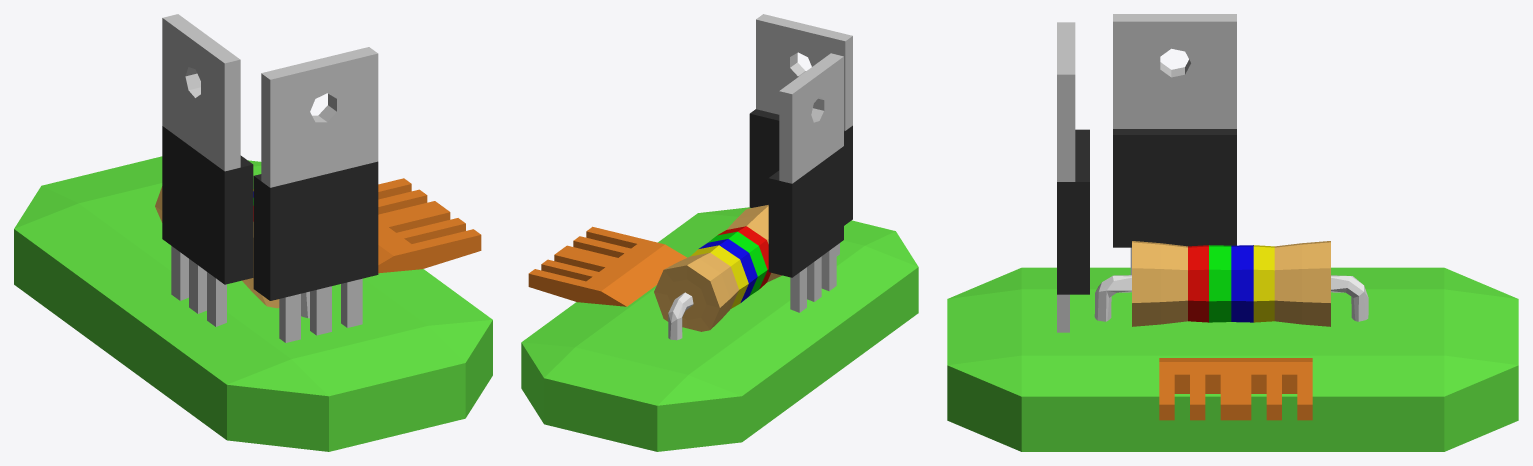
Rendered from 1BitMemoryModule_Item.fbx.
3 views of the same model, side by side, from view 1: azimuth 30°, elevation 25°; view 2: azimuth 150°, elevation 25°; view 3: azimuth 270°, elevation 25° (orthographic). The views are drawn at different scales.
Parts seen in each view (by area): view 1: Cube; view 2: Cube; view 3: Cube.
Part boxes in pixels (x1,y1,x2,y2): Cube: [14, 14, 492, 451]; Cube: [521, 14, 918, 451]; Cube: [947, 14, 1518, 451].
Bounding box in the file's own units: 73.08 × 73.83 × 112.
